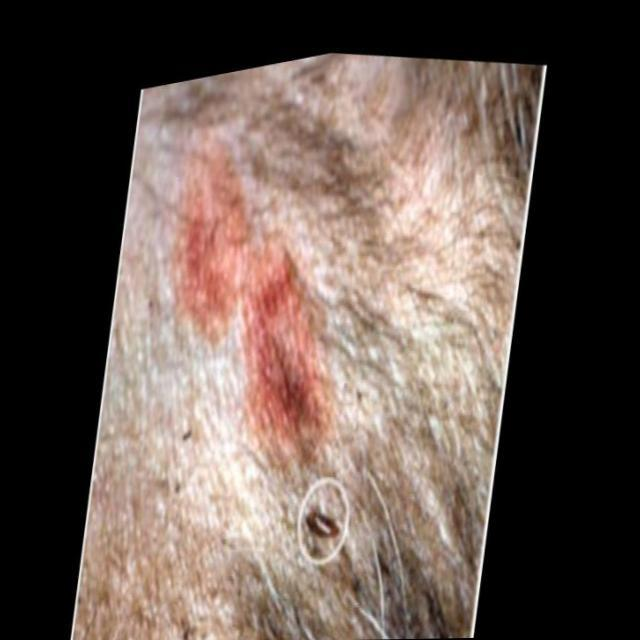allergic dermatitis: (224, 234, 354, 480), (163, 138, 240, 354)
